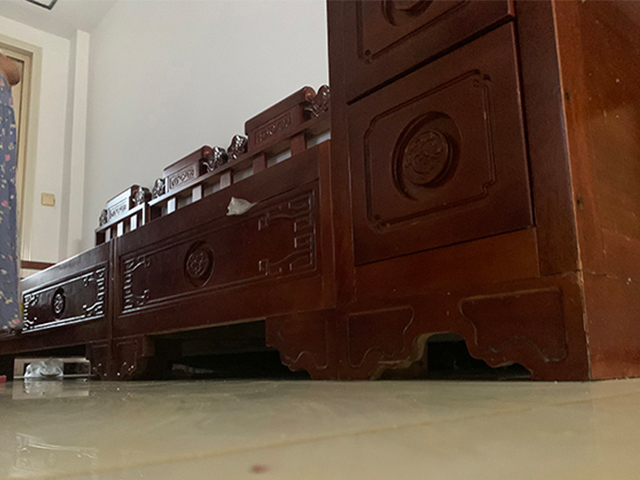sofa: (1, 1, 640, 381)
